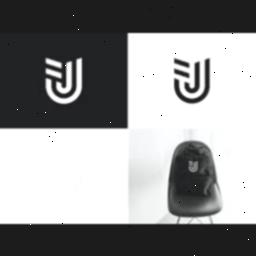j: (56, 58, 74, 96), (182, 60, 202, 92)
